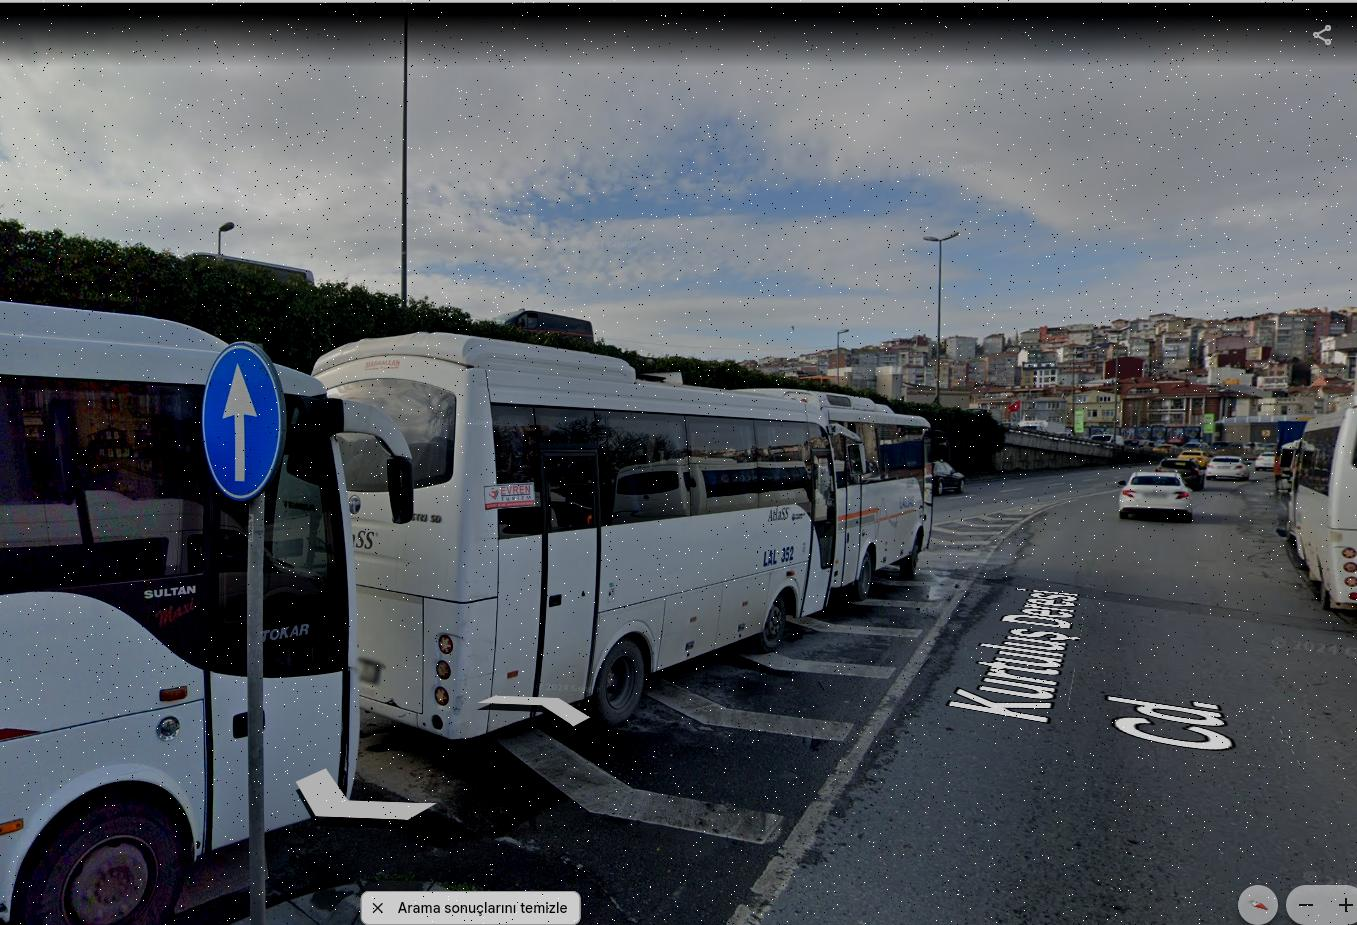forward: (204, 346, 280, 497)
